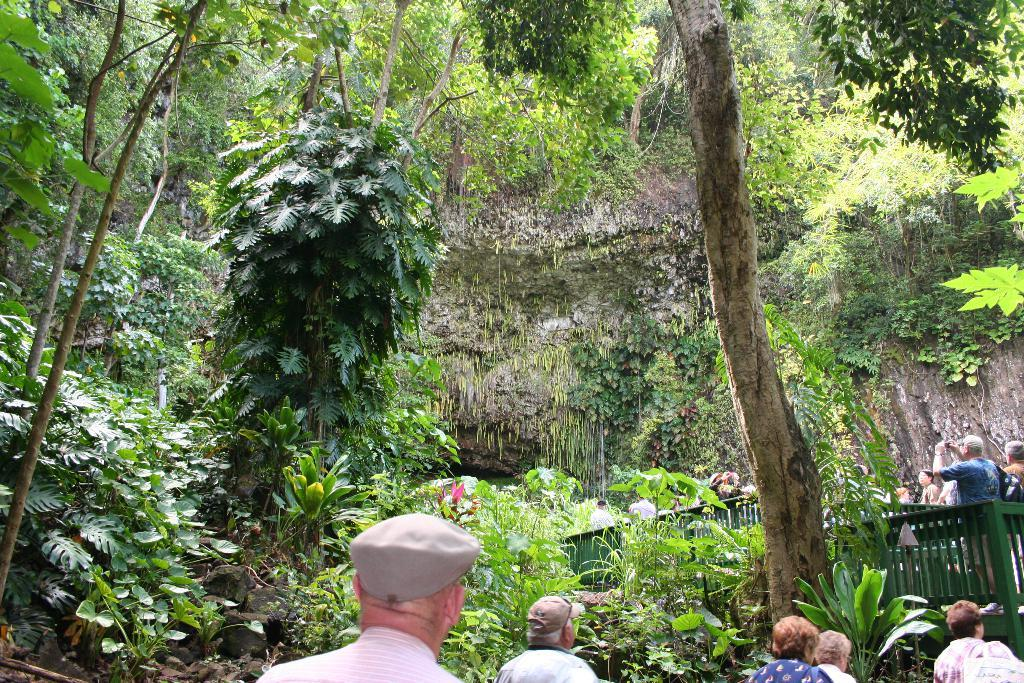Hat: (347, 512, 482, 600)
